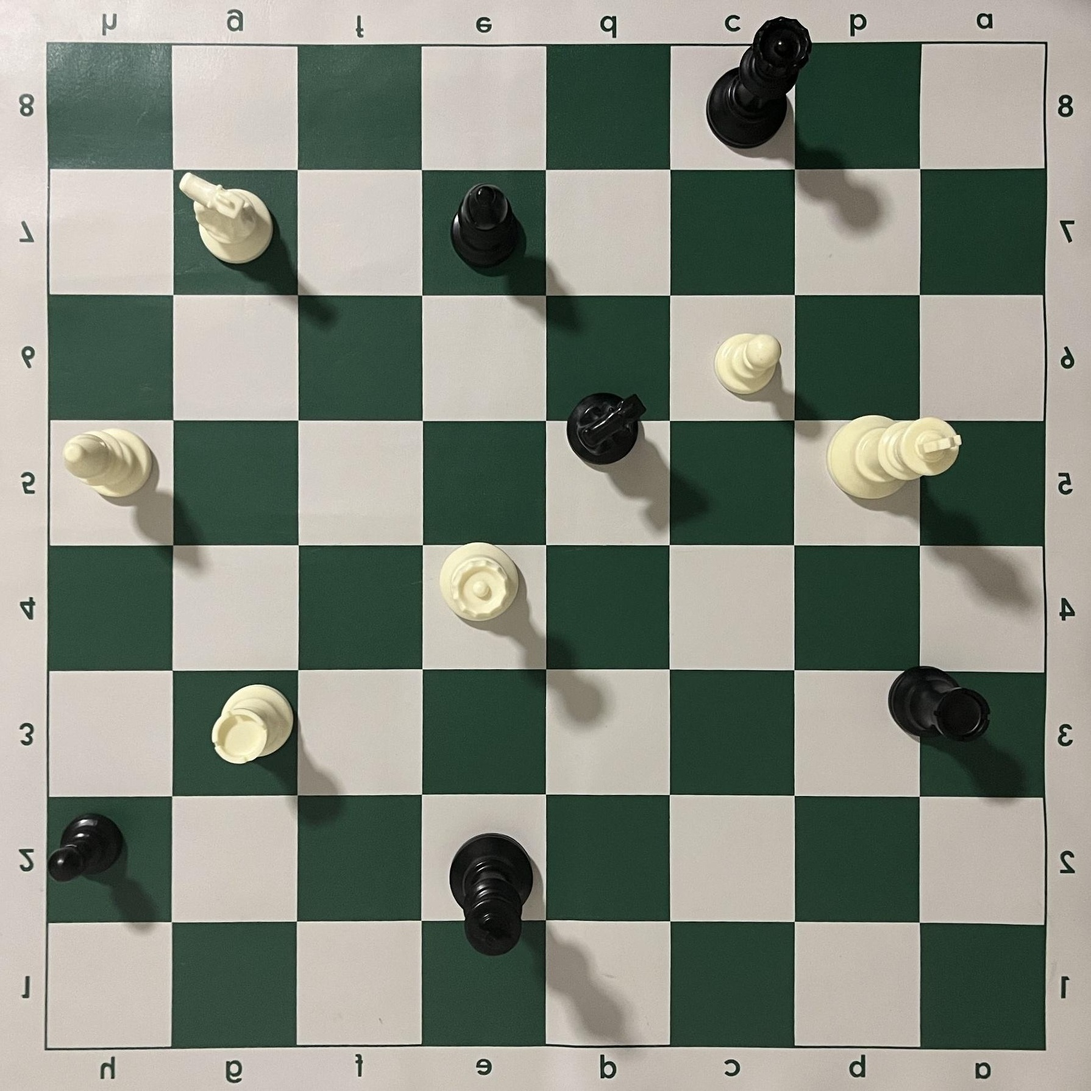black_bishop: (450, 183, 520, 268)
black_king: (449, 833, 534, 957)
black_knight: (566, 392, 648, 466)
black_pawn: (48, 813, 124, 883)
black_queen: (706, 16, 812, 149)
black_rook: (888, 665, 991, 743)
white_bishop: (62, 427, 153, 501)
white_king: (825, 414, 962, 499)
white_knight: (179, 171, 275, 265)
white_pawn: (714, 334, 781, 396)
white_queen: (438, 541, 520, 622)
white_rook: (211, 684, 294, 764)
